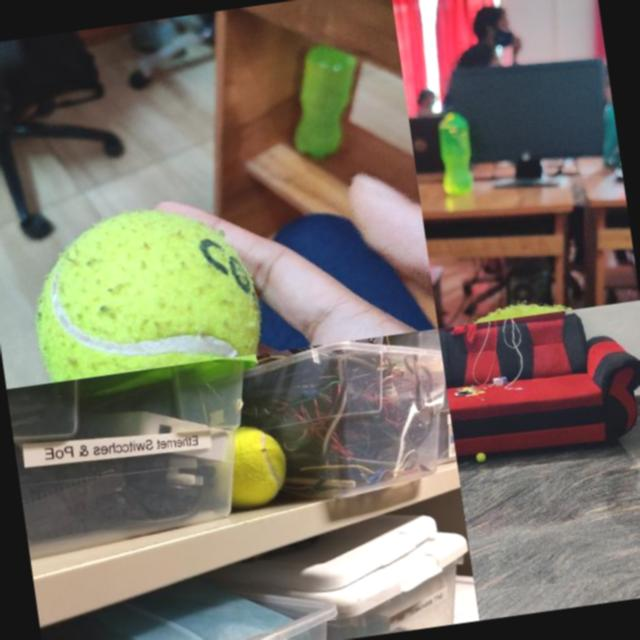Tennis Ball: (21, 194, 267, 383), (238, 422, 293, 508), (476, 452, 487, 462)
